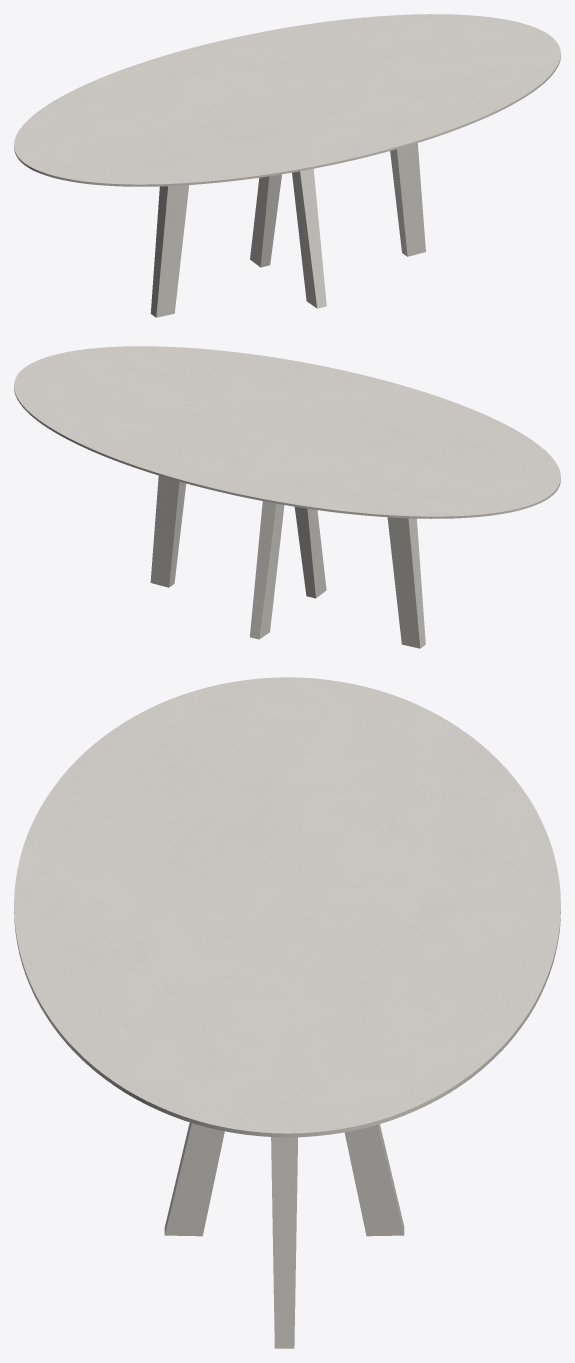
File: pearlwhite_ellips_facet_searwalnut.glb
3 views of the same model, one above another, from view 1: azimuth 30°, elevation 25°; view 2: azimuth 150°, elevation 25°; view 3: azimuth 270°, elevation 25° (orthographic). The views are drawn at different scales.
Parts seen in each view (by area): view 1: facet_ellips, searwalnut; view 2: facet_ellips, searwalnut; view 3: facet_ellips, searwalnut.
Part boxes in pixels (x1,y1,x2,y2): facet_ellips: [14, 14, 560, 186]; searwalnut: [150, 143, 425, 317]; facet_ellips: [14, 346, 560, 518]; searwalnut: [150, 475, 425, 648]; facet_ellips: [14, 677, 560, 1137]; searwalnut: [164, 1122, 404, 1348].
Size of the model in its own units: 7.5 by 2.5 by 3.8.
Materials: 1 (1 with a texture image).
